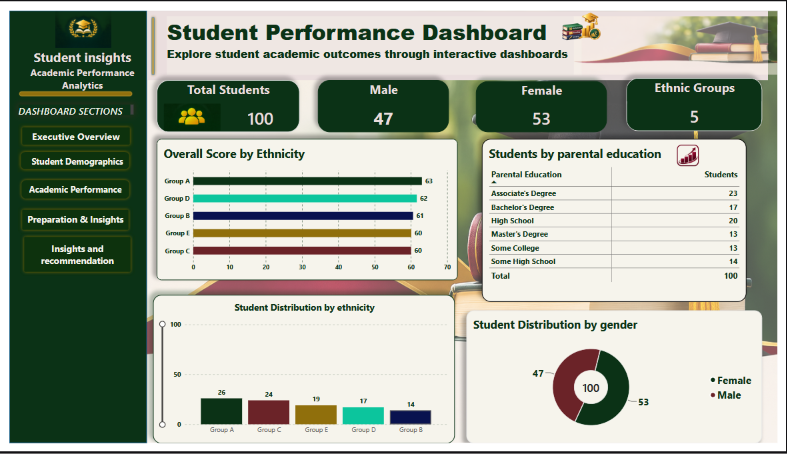

This screenshot's page, from the dashboard's own definition file:
{"tool":"powerbi","page":{"name":"Student Demographics","canvas":[1920,1080],"ordinal":1},"visuals":[{"type":"shape","box":[0,0,342.5,1080],"z":0},{"type":"shape","box":[346.5,0,1550,172.5],"z":1000},{"type":"image","box":[1410,12.5,510,147.5],"z":2000},{"type":"shape","box":[347.5,7.5,22.5,160],"z":3000},{"type":"textbox","box":[392.5,12.5,1037.5,147.5],"z":4000},{"type":"textbox","box":[22,92.7,319.6,122],"z":5000},{"type":"shape","box":[22,197.6,287.5,17.5],"z":6000},{"type":"cardVisual","title":"Total Students","fields":{"Data":["Sheet1.Total students"]},"box":[368.4,173.2,356.2,129.3],"z":7000},{"type":"image","box":[0,0,370,92.5],"z":8000},{"type":"cardVisual","title":"Male","fields":{"Data":["Sheet1.male Students"]},"box":[771,173.2,326.9,129.3],"z":9000},{"type":"cardVisual","title":"Female","fields":{"Data":["Sheet1.Female Students"]},"box":[1166.2,175.7,326.9,126.9],"z":10000},{"type":"cardVisual","title":"Ethnic Groups","fields":{"Data":["Sheet1.Total Ethnic Groups"]},"box":[1542,168.3,339.1,131.8],"z":11000},{"type":"clusteredColumnChart","title":"Student  Distribution by ethnicity","fields":{"Category":["Sheet1.Ethnicity"],"Y":["Sheet1.Students by Ethnicity"]},"box":[358.7,710,753.9,370.9],"z":12000},{"type":"image","box":[1373.6,0,112.2,78.1],"z":13000},{"type":"donutChart","title":"Student Distribution by gender","fields":{"Category":["Sheet1.Gender"],"Y":["CountNonNull(Sheet1.Student ID)"]},"box":[1141.8,749,739.3,331.8],"z":14000},{"type":"tableEx","title":"Students by parental education","fields":{"Values":["Sheet1.Parental Education","Sheet1.Students"]},"box":[1180.9,319.6,661.2,407.4],"z":16000},{"type":"image","box":[1639.6,319.6,112.2,80.5],"z":17000},{"type":"textbox","box":[22,234.2,287.9,26.8],"z":18000},{"type":"actionButton","box":[19.5,344,287.9,58.6],"z":19000},{"type":"actionButton","box":[22,280.6,287.9,63.4],"z":20000},{"type":"actionButton","box":[22,414.8,285.5,63.4],"z":21000},{"type":"actionButton","box":[22,488,285.5,68.3],"z":22000},{"type":"clusteredBarChart","title":"Overall  Score by Ethnicity","fields":{"Category":["Sheet1.Ethnicity"],"Y":["Sheet1.Average Score by Ethnicity"]},"box":[368.4,319.6,751.5,353.8],"z":22001},{"type":"actionButton","box":[26.8,556.3,285.5,104.9],"z":22002}]}

Visuals, with their boxes in screenshot pixels (x1, y1, x2, y2), scaled from the page's 1920x1080 canvas onto the 787x454 screenshot:
shape: rect(0, 0, 140, 453)
shape: rect(142, 0, 777, 73)
image: rect(578, 5, 786, 67)
shape: rect(142, 3, 152, 70)
textbox: rect(161, 5, 586, 67)
textbox: rect(9, 39, 140, 90)
shape: rect(9, 83, 127, 90)
"Total Students" cardVisual: rect(151, 73, 297, 127)
image: rect(0, 0, 152, 39)
"Male" cardVisual: rect(316, 73, 450, 127)
"Female" cardVisual: rect(478, 74, 612, 127)
"Ethnic Groups" cardVisual: rect(632, 71, 771, 126)
"Student  Distribution by ethnicity" clusteredColumnChart: rect(147, 298, 456, 453)
image: rect(563, 0, 609, 33)
"Student Distribution by gender" donutChart: rect(468, 315, 771, 453)
"Students by parental education" tableEx: rect(484, 134, 755, 306)
image: rect(672, 134, 718, 168)
textbox: rect(9, 98, 127, 110)
actionButton: rect(8, 145, 126, 169)
actionButton: rect(9, 118, 127, 145)
actionButton: rect(9, 174, 126, 201)
actionButton: rect(9, 205, 126, 234)
"Overall  Score by Ethnicity" clusteredBarChart: rect(151, 134, 459, 283)
actionButton: rect(11, 234, 128, 278)
